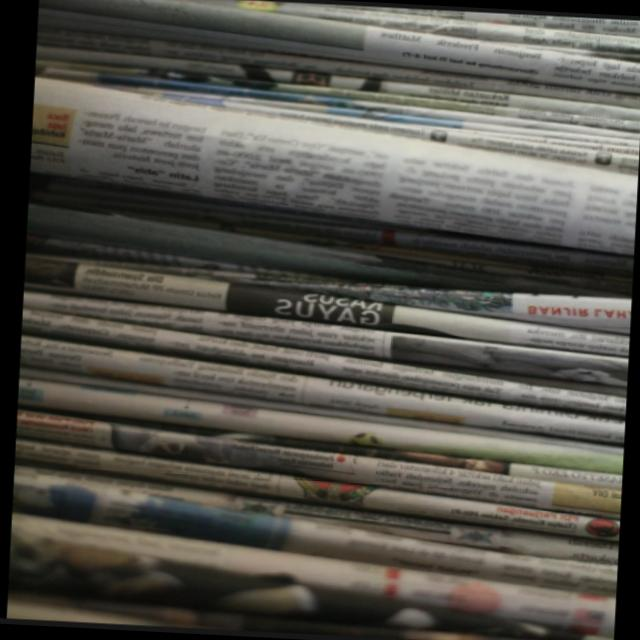Koran: (3, 0, 640, 640)
